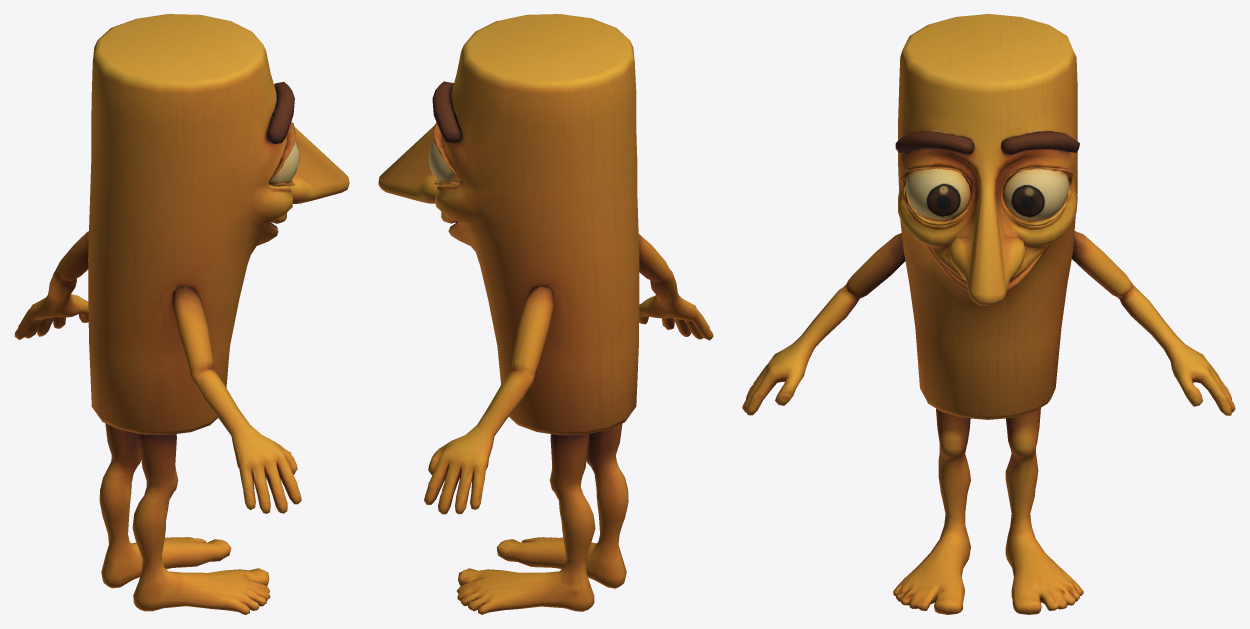
File: tung tung.glb
3 views of the same model, side by side, from view 1: azimuth 30°, elevation 25°; view 2: azimuth 150°, elevation 25°; view 3: azimuth 270°, elevation 25° (orthographic).
Parts seen in each view (by area): view 1: tripo_node_fd13055c-662d-4f69-871a-9ee18770c5d3; view 2: tripo_node_fd13055c-662d-4f69-871a-9ee18770c5d3; view 3: tripo_node_fd13055c-662d-4f69-871a-9ee18770c5d3.
Boxes of the visible parts, bbox=[...] form: tripo_node_fd13055c-662d-4f69-871a-9ee18770c5d3: bbox=[14, 14, 349, 614]; tripo_node_fd13055c-662d-4f69-871a-9ee18770c5d3: bbox=[378, 14, 713, 614]; tripo_node_fd13055c-662d-4f69-871a-9ee18770c5d3: bbox=[742, 14, 1235, 614].
Bounding box in the file's own units: 0.4824 × 0.998 × 0.8301.
Materials: 1 (1 with a texture image).
